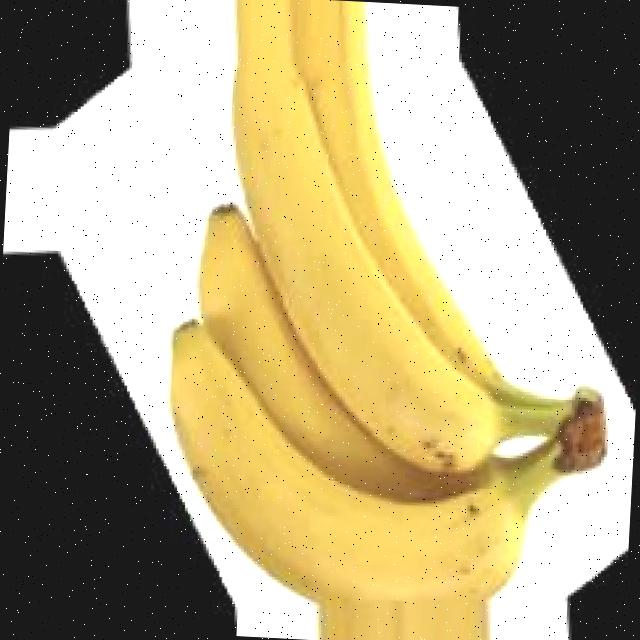banana: (156, 54, 624, 586)
